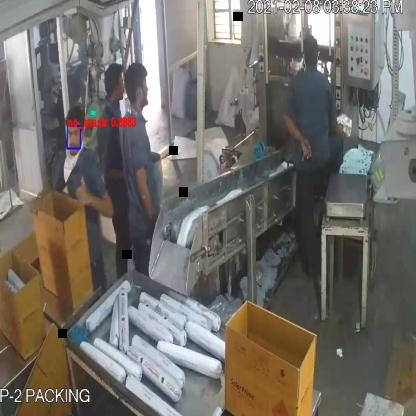no_glove: (73, 178, 116, 226), (280, 106, 314, 166), (134, 162, 159, 232)
